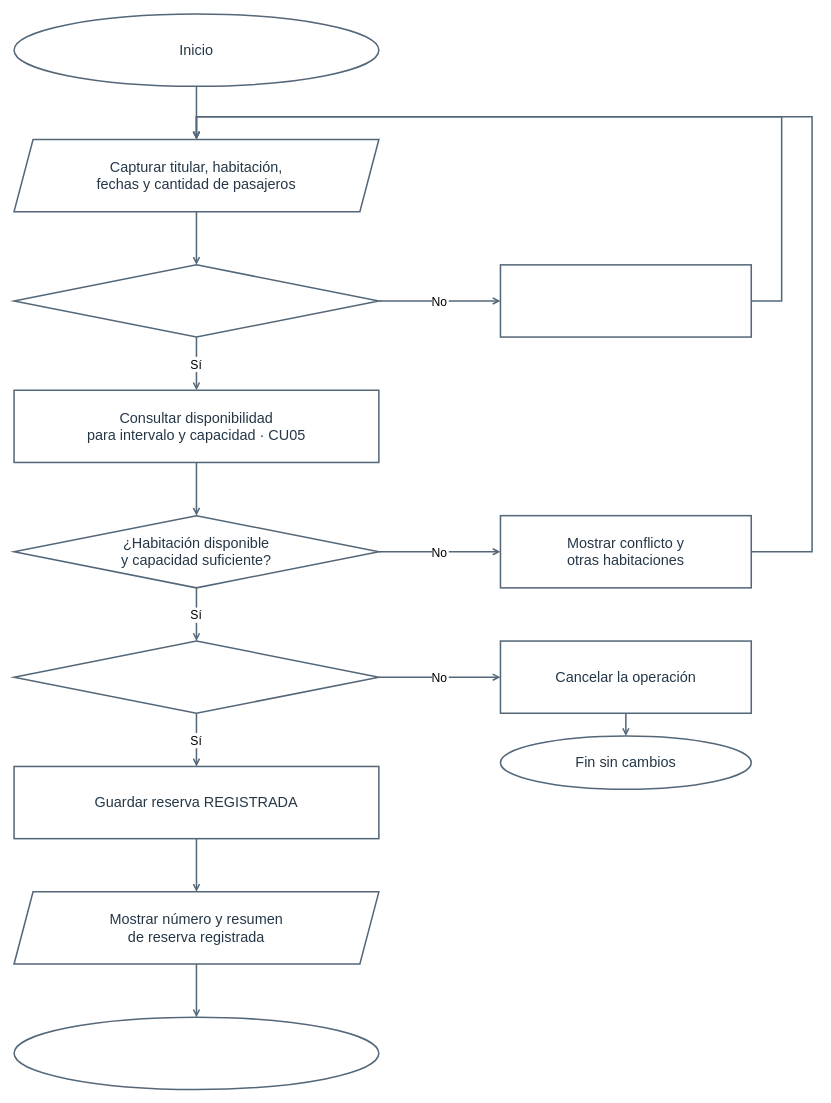
Some shapes in this 831 by 1103 pixel diagram are drawn without their labels. The box of each missing label's shape, as (x1, y1, x2, y2) in pixels:
Fin: (13, 1016, 379, 1090)
Mostrar campos que requieren corrección: (499, 264, 752, 337)
¿Confirma la reserva?: (13, 640, 379, 714)
¿Titular registrado y datos completos y válidos?: (13, 264, 379, 337)
